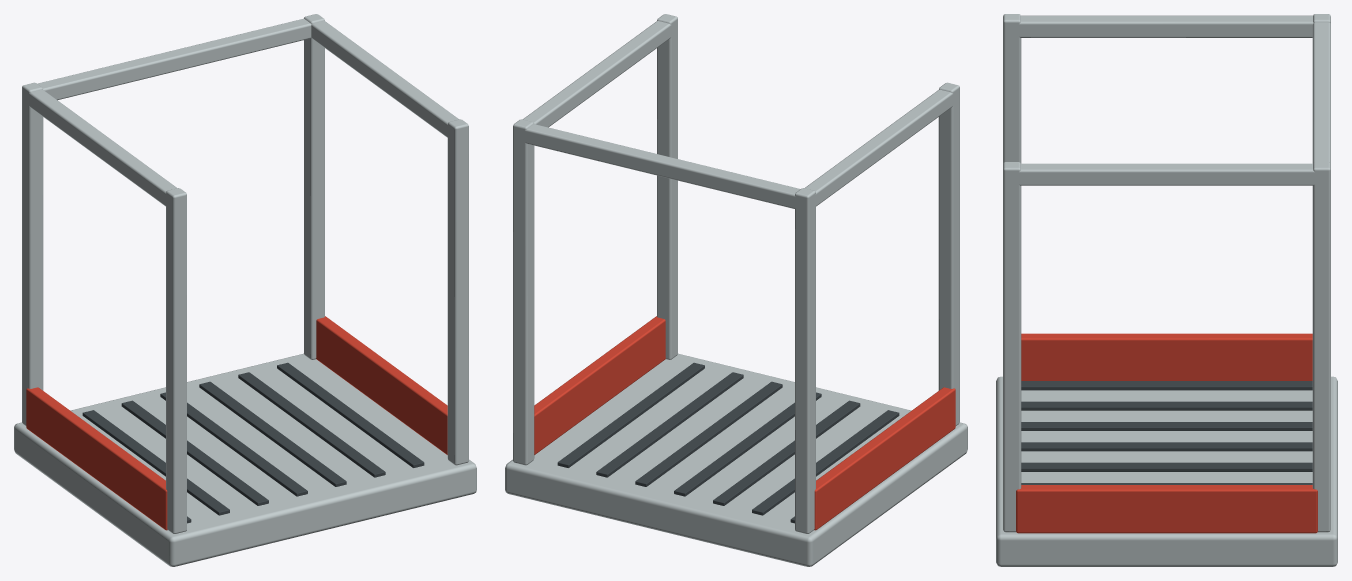
Rendered from broadcast-tower-and-relay-station-broadcast-tower-and--4a1910d1__30251.glb.
The picture shows the model from 3 angles, left to right: view 1: azimuth 30°, elevation 25°; view 2: azimuth 150°, elevation 25°; view 3: azimuth 270°, elevation 25°; orthographic projection. The views are drawn at different scales.
Visible parts, largest first — view 1: broadcast-tower-and-relay-station-ladder-rest-platform; view 2: broadcast-tower-and-relay-station-ladder-rest-platform; view 3: broadcast-tower-and-relay-station-ladder-rest-platform.
Boxes of the visible parts, x1,y1,x2,y2 form: broadcast-tower-and-relay-station-ladder-rest-platform: [14, 14, 476, 566]; broadcast-tower-and-relay-station-ladder-rest-platform: [505, 14, 967, 566]; broadcast-tower-and-relay-station-ladder-rest-platform: [996, 14, 1337, 566].
Bounding box in the file's own units: 0.95 × 1.09 × 0.85.
